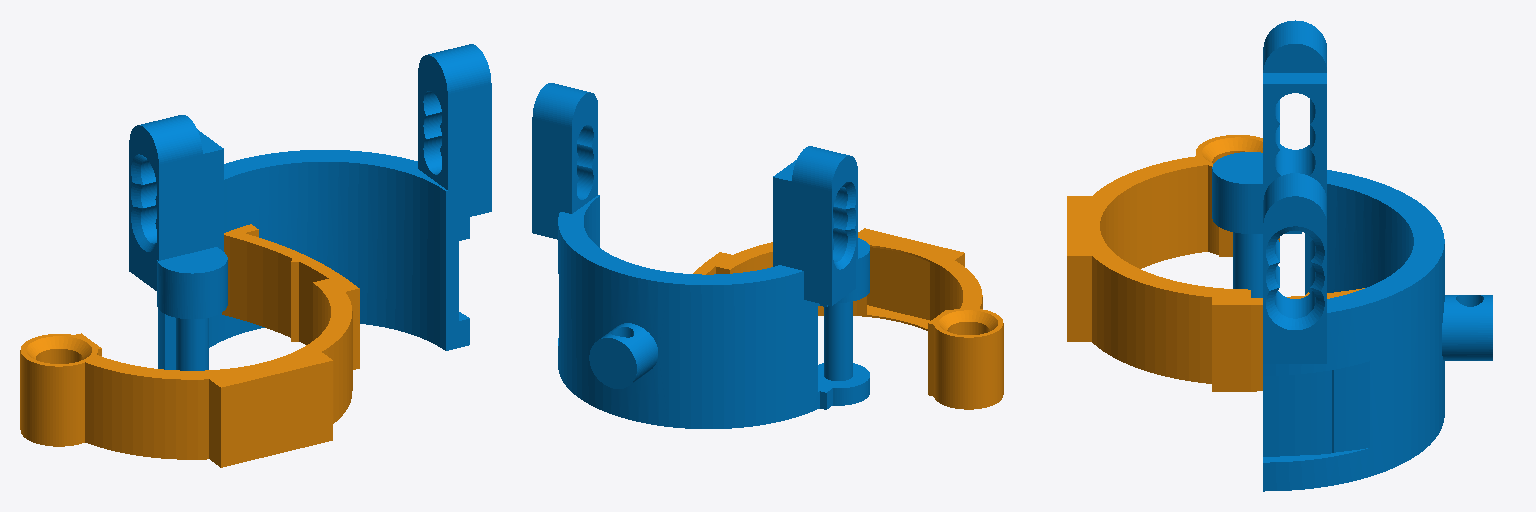
robot.urdf — phalanx1_modular_exo:
<?xml version="1.0" encoding="utf-8"?>
<robot name="phalanx1_modular_exo">
  <!-- Link 1: Máng mu ngón (Dorsal Shell) cố định làm đế -->
  <link name="phalanx1_dorsal">
    <inertial>
      <origin xyz="0 4.5 7.5" rpy="0 0 0"/>
      <mass value="0.008"/>
      <inertia ixx="1.2e-6" ixy="0" ixz="0" iyy="1.5e-6" iyz="0" izz="1.8e-6"/>
    </inertial>
    <visual>
      <origin xyz="0 0 0" rpy="0 0 0"/>
      <geometry>
        <mesh filename="package://full_finger_modular/phalanx1_dorsal_only.stl" scale="0.001 0.001 0.001"/>
      </geometry>
      <material name="cyan">
        <color rgba="0.05 0.55 0.85 1.0"/>
      </material>
    </visual>
    <collision>
      <origin xyz="0 0 0" rpy="0 0 0"/>
      <geometry>
        <mesh filename="package://full_finger_modular/phalanx1_dorsal_only.stl" scale="0.001 0.001 0.001"/>
      </geometry>
    </collision>
  </link>

  <!-- Link 2: Quai bụng ngón (Palmar Clam-shell Arm) -->
  <link name="phalanx1_palmar">
    <inertial>
      <origin xyz="0 -8.5 6.2" rpy="0 0 0"/>
      <mass value="0.004"/>
      <inertia ixx="0.6e-6" ixy="0" ixz="0" iyy="0.8e-6" iyz="0" izz="0.9e-6"/>
    </inertial>
    <visual>
      <origin xyz="0 0 0" rpy="0 0 0"/>
      <geometry>
        <mesh filename="package://full_finger_modular/phalanx1_palmar_arm_only.stl" scale="0.001 0.001 0.001"/>
      </geometry>
      <material name="amber">
        <color rgba="0.95 0.60 0.10 1.0"/>
      </material>
    </visual>
    <collision>
      <origin xyz="0 0 0" rpy="0 0 0"/>
      <geometry>
        <mesh filename="package://full_finger_modular/phalanx1_palmar_arm_only.stl" scale="0.001 0.001 0.001"/>
      </geometry>
    </collision>
  </link>

  <!-- Khớp xoay bản lề H(-13.6mm, -1.0mm) -->
  <joint name="hinge_joint" type="revolute">
    <parent link="phalanx1_dorsal"/>
    <child link="phalanx1_palmar"/>
    <origin xyz="-0.0136 -0.0010 0.0" rpy="0 0 0"/>
    <axis xyz="0 0 1"/>
    <limit lower="-1.570796" upper="0.0" effort="0.5" velocity="5.0"/>
    <dynamics damping="0.001" friction="0.02"/>
  </joint>

  <!-- Gazebo Material Settings -->
  <gazebo reference="phalanx1_dorsal">
    <material>Gazebo/SkyBlue</material>
    <mu1>0.2</mu1>
    <mu2>0.2</mu2>
  </gazebo>

  <gazebo reference="phalanx1_palmar">
    <material>Gazebo/Orange</material>
    <mu1>0.2</mu1>
    <mu2>0.2</mu2>
  </gazebo>
</robot>

--- Render facts (derived) ---
The picture shows the robot from 3 angles, left to right: view 1: azimuth 30°, elevation 25°; view 2: azimuth 150°, elevation 25°; view 3: azimuth 270°, elevation 25°; orthographic projection.
Robot: phalanx1_modular_exo — 2 links, 1 joints (1 revolute); root link phalanx1_dorsal; default pose: all joints at 0.
Visible links, largest first — view 1: phalanx1_dorsal, phalanx1_palmar; view 2: phalanx1_dorsal, phalanx1_palmar; view 3: phalanx1_dorsal, phalanx1_palmar.
Link boxes in pixels (box(x1,y1,x2,y2)): phalanx1_dorsal: box(129, 44, 491, 370); phalanx1_palmar: box(20, 224, 359, 467); phalanx1_dorsal: box(532, 83, 869, 428); phalanx1_palmar: box(693, 228, 1003, 409); phalanx1_dorsal: box(1212, 20, 1492, 491); phalanx1_palmar: box(1067, 135, 1364, 391).
Bounding box of the posed robot: 0.0468 × 0.0334 × 0.0265 m (x, y, z).
2 mesh visuals loaded from 2 distinct referenced files (2 binary STL).
